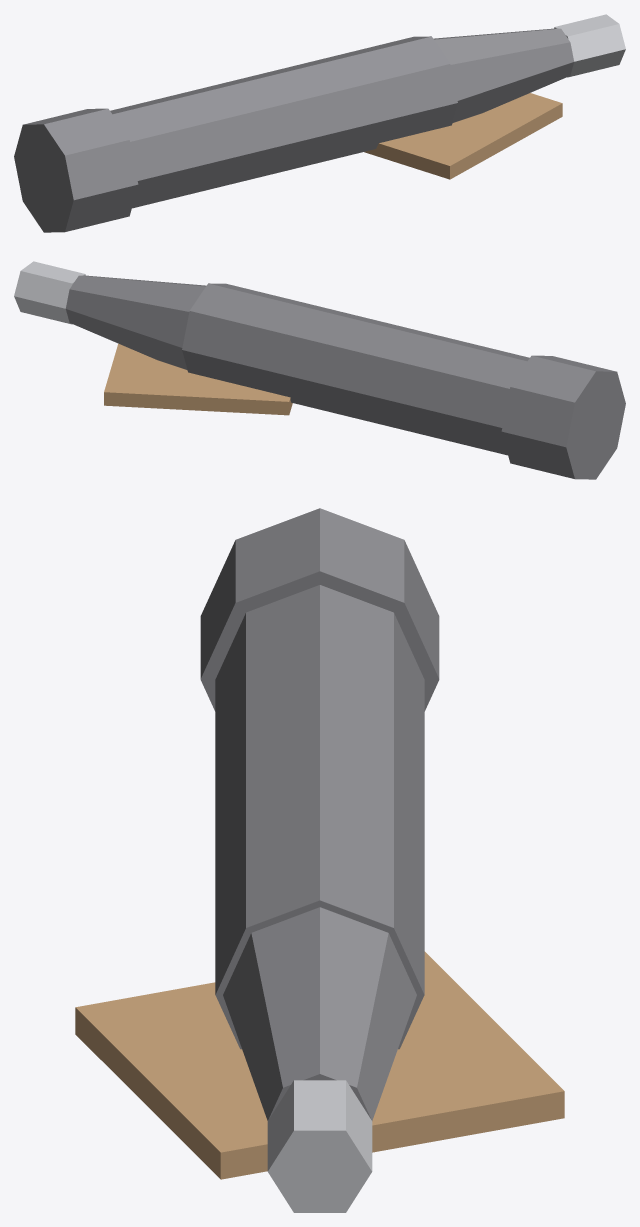
Rendered from prop-leather-punch-sd1.fbx.
The picture shows the model from 3 angles, top to bottom: view 1: azimuth 30°, elevation 25°; view 2: azimuth 150°, elevation 25°; view 3: azimuth 270°, elevation 25°; orthographic projection. The views are drawn at different scales.
Visible parts, largest first — view 1: prop-leather-punch-sd1; view 2: prop-leather-punch-sd1; view 3: prop-leather-punch-sd1.
Boxes of the visible parts, bbox=[...] form: prop-leather-punch-sd1: bbox=[14, 14, 625, 232]; prop-leather-punch-sd1: bbox=[14, 261, 625, 479]; prop-leather-punch-sd1: bbox=[75, 508, 564, 1212].
Bounding box in the file's own units: 17.6 × 3.2 × 6.55.
